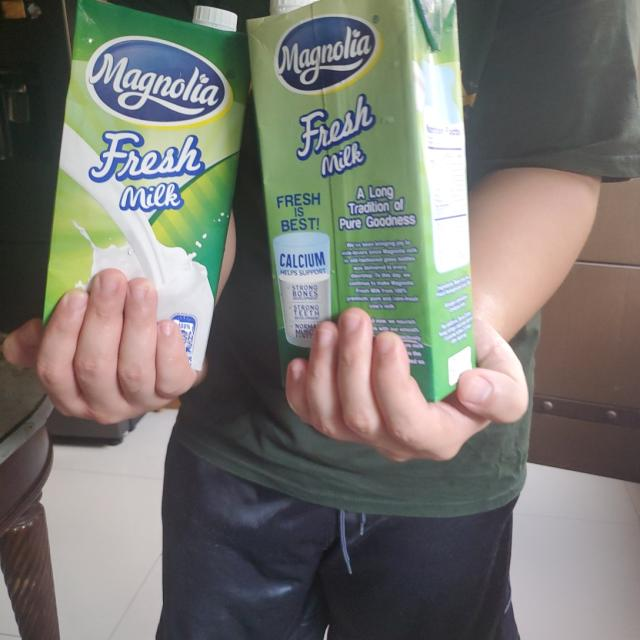milk: (246, 0, 476, 405), (42, 0, 250, 372)
